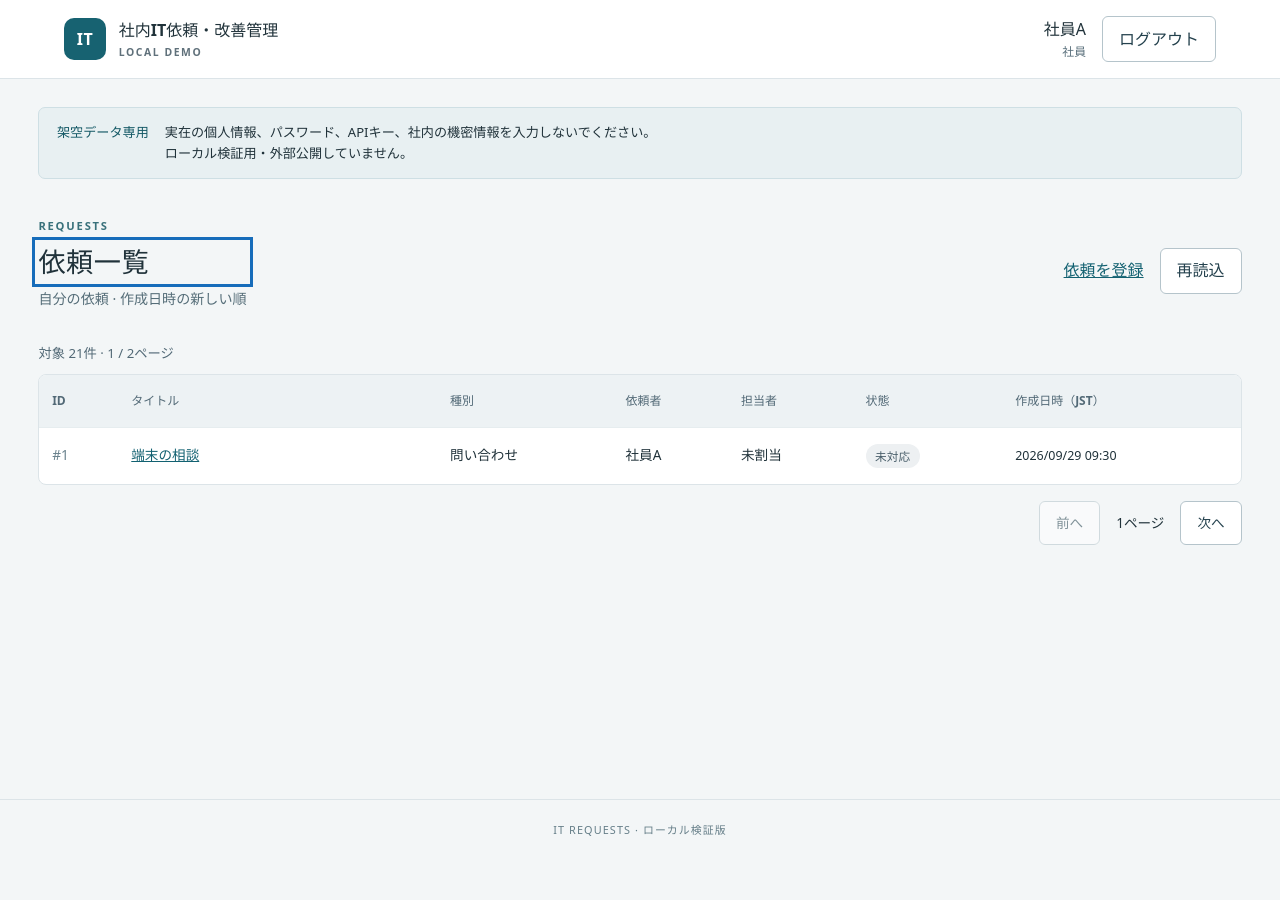
Test: screens (mock API and jsdom) › does not display old rows on a failed reload and offers a retry
The width and height of the screenshot is (1280, 900).
Expected: the link "端末の相談" is shown, [131,445,199,464]
Click the button "再読込". click: (1201, 270)
box: [1160,248,1242,294]
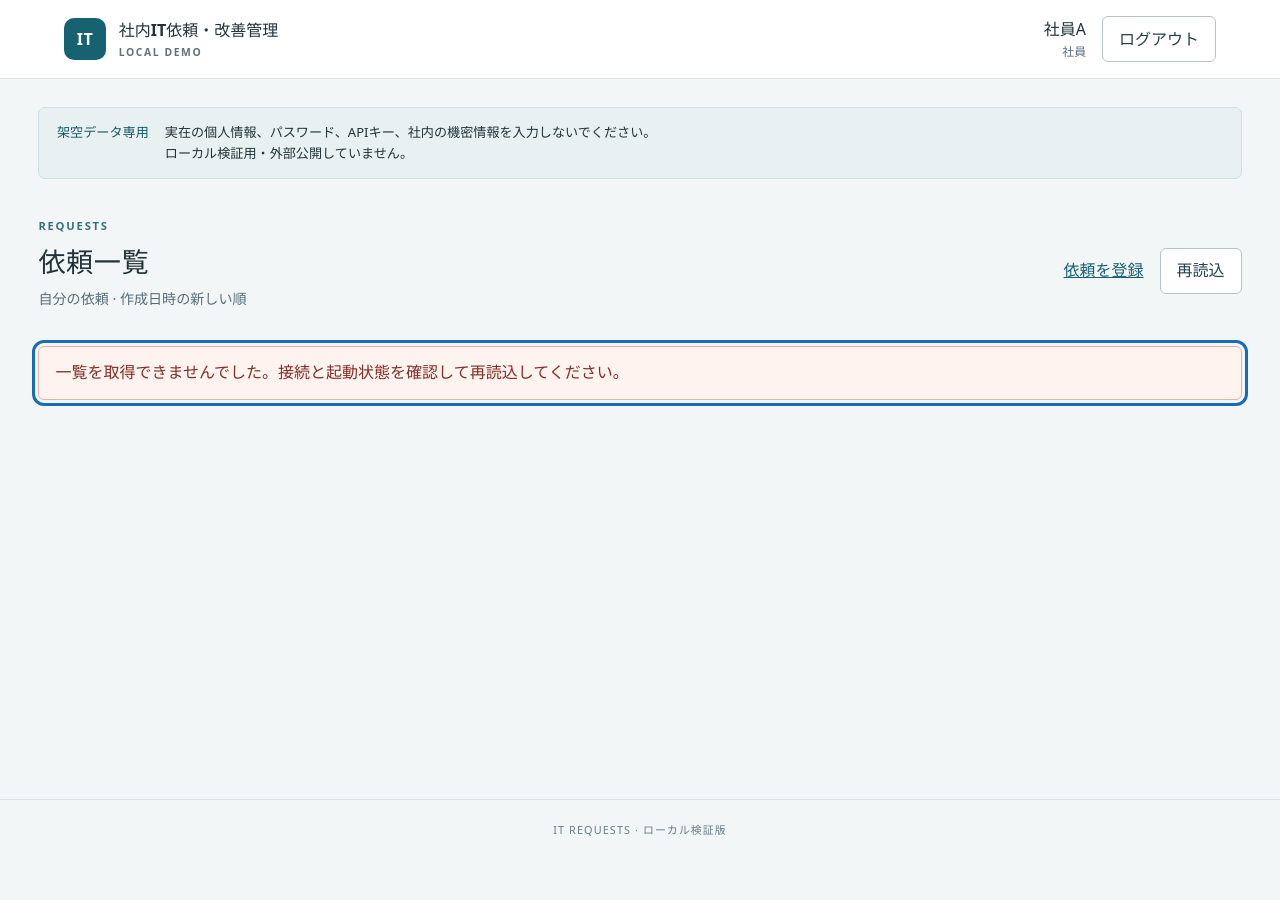
Expected: the message "一覧を取得できませんでした。接続と起動状態を確認して再読込してください。" is shown, [38,346,1242,400]
Expected: the link "端末の相談" is gone
